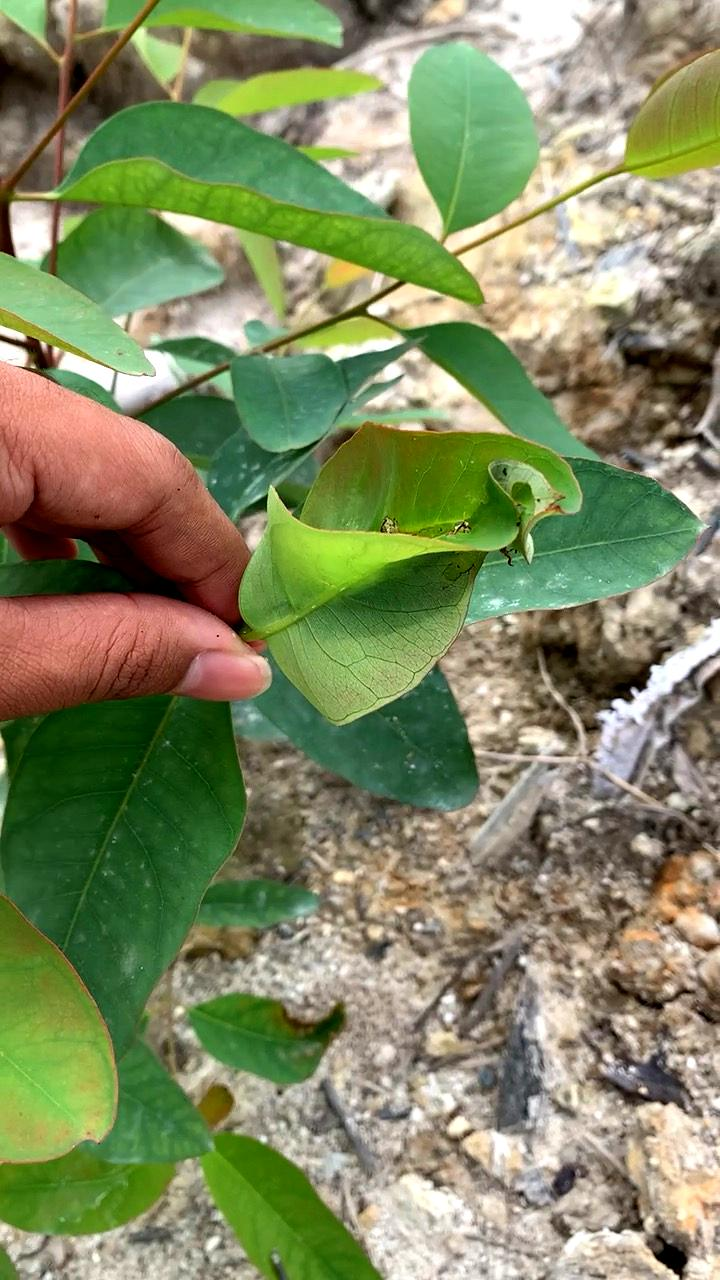Leaf Roller - Leaf: (187, 376, 623, 770)
